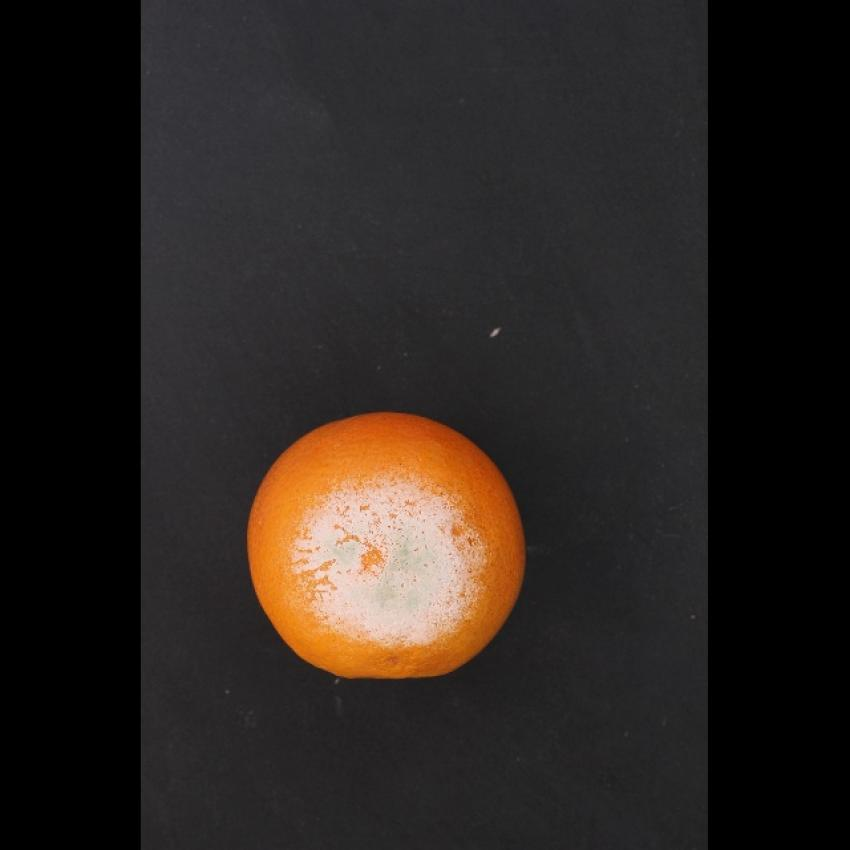Mal estado: (237, 400, 542, 690)
